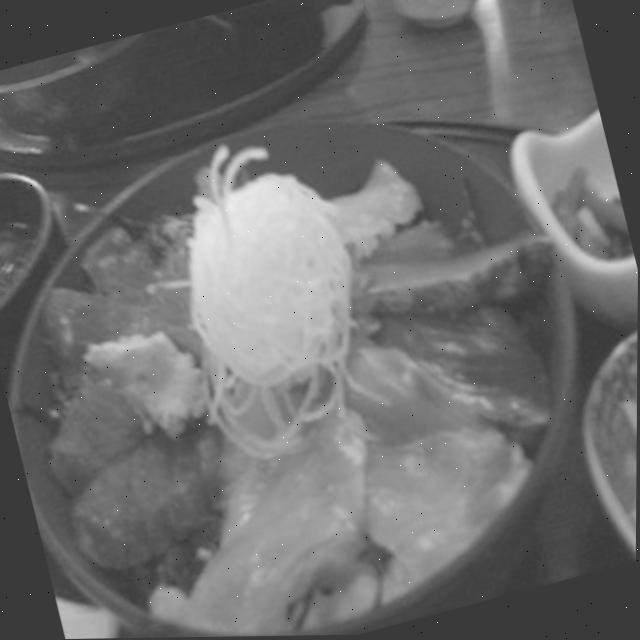刺身生食: (0, 63, 622, 640)
